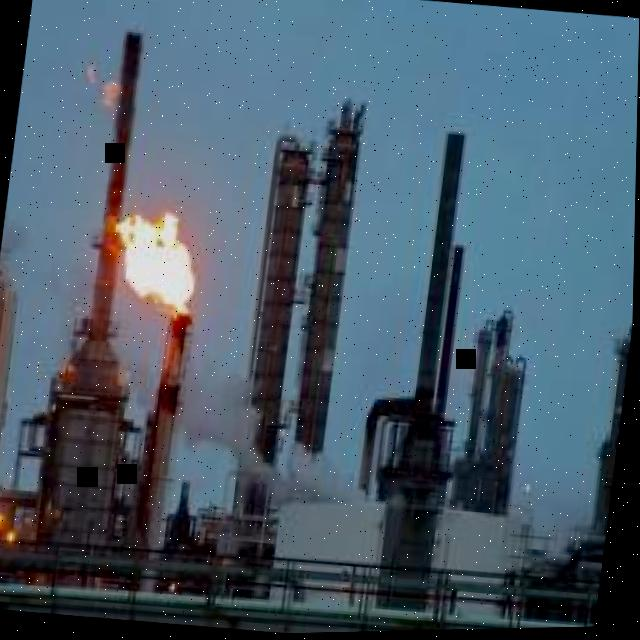fire: (113, 211, 195, 314), (96, 73, 125, 106)
smoke: (183, 361, 370, 508), (2, 194, 96, 412), (108, 281, 161, 409)
